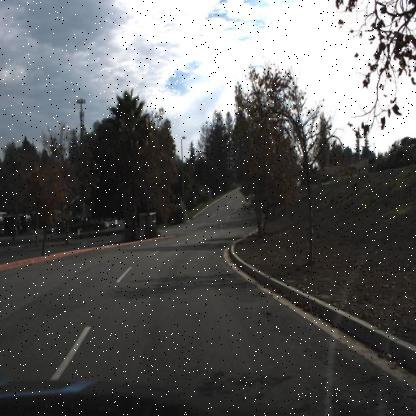car: (104, 214, 120, 228)
